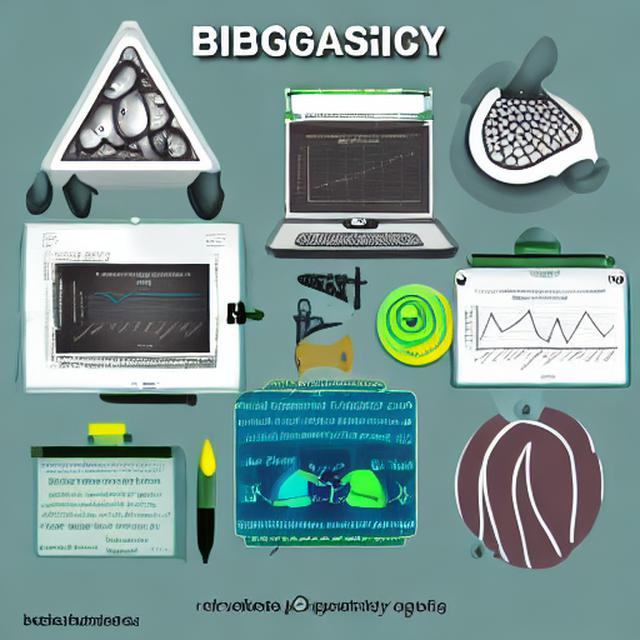Graph: (460, 285, 621, 381), (69, 267, 210, 353), (291, 132, 427, 213)
